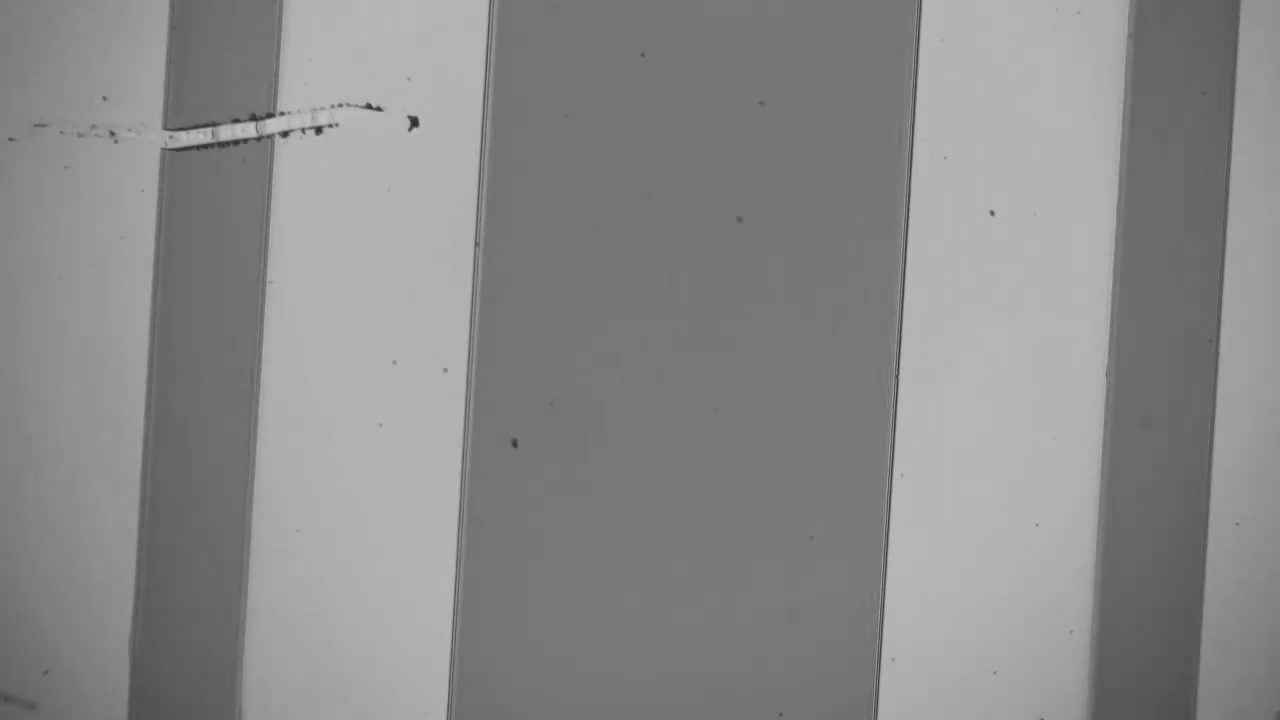Short_circuit: (138, 88, 305, 182)
